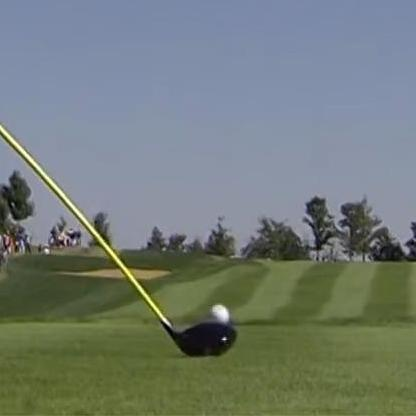golfball: (207, 302, 228, 326)
